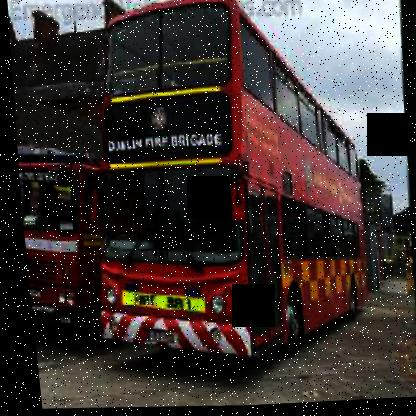emergency: (48, 0, 415, 379)
